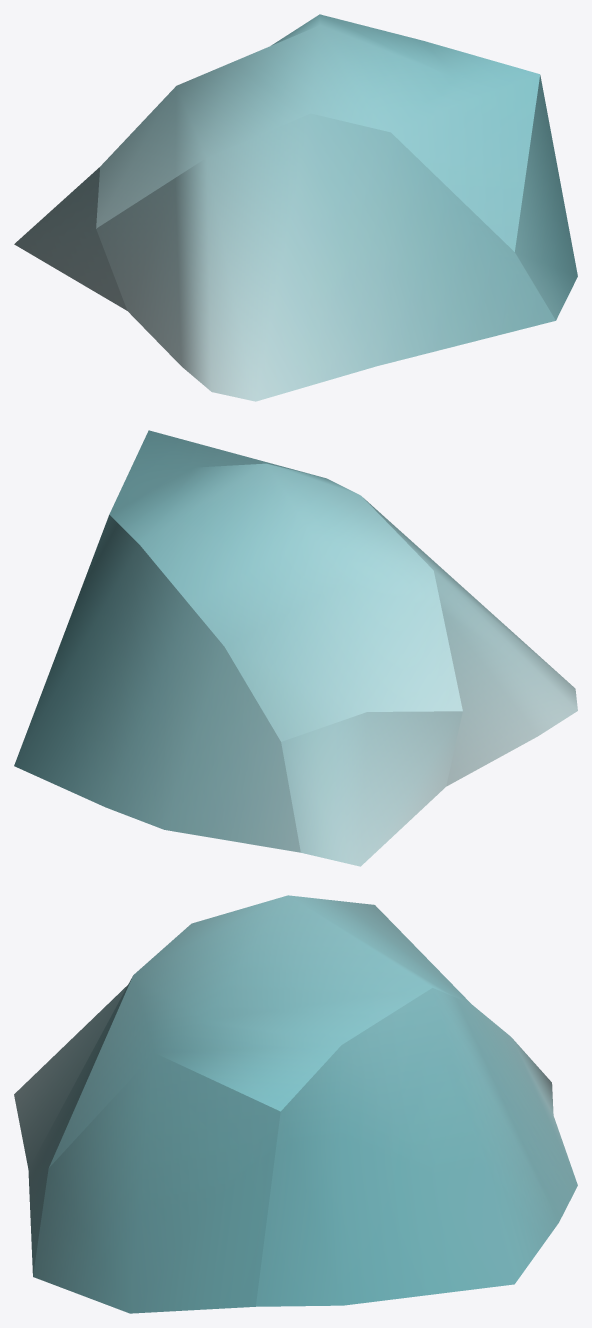
File: Ice_V2_paint.fbx
3 views of the same model, one above another, from view 1: azimuth 30°, elevation 25°; view 2: azimuth 150°, elevation 25°; view 3: azimuth 270°, elevation 25° (orthographic). The views are drawn at different scales.
Parts seen in each view (by area): view 1: V2; view 2: V2; view 3: V2.
Boxes of the visible parts, bbox=[...] form: V2: bbox=[14, 14, 577, 401]; V2: bbox=[14, 430, 577, 866]; V2: bbox=[14, 895, 577, 1313].
Size of the model in its own units: 1.75 by 1.06 by 1.77.
